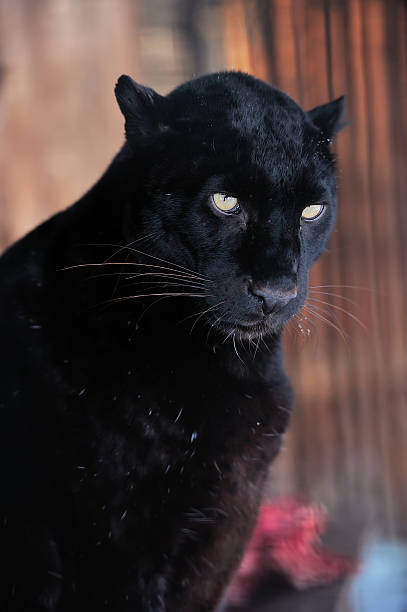panther: (86, 51, 388, 384)
